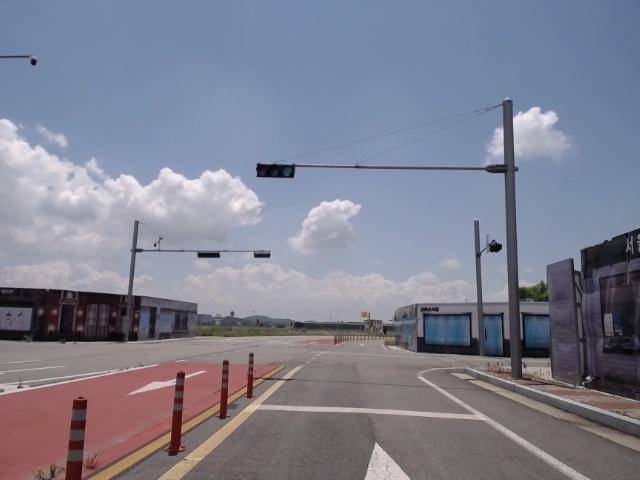green_3: (258, 164, 294, 177)
